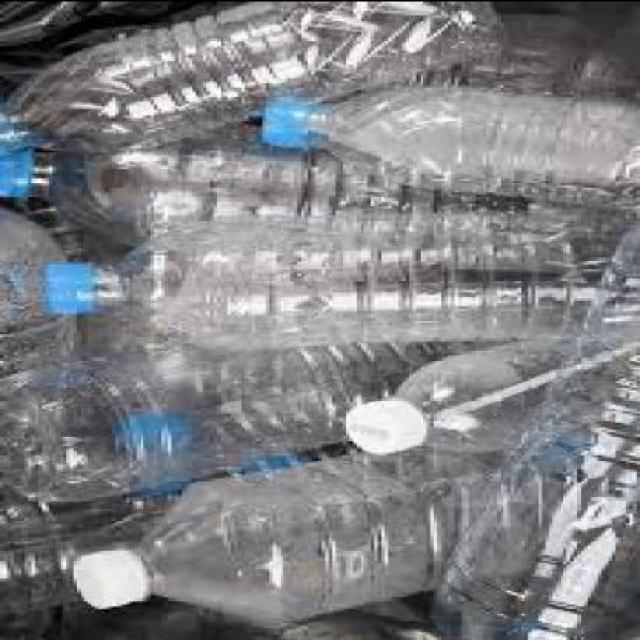PLASTIC: (0, 1, 638, 638), (420, 219, 637, 638), (63, 440, 539, 622), (0, 338, 491, 502), (39, 210, 636, 336), (1, 444, 367, 638), (0, 1, 494, 144), (0, 113, 529, 244), (255, 77, 637, 205), (339, 332, 567, 450), (335, 5, 637, 90), (525, 2, 637, 209), (0, 1, 195, 70), (84, 602, 438, 638), (70, 542, 150, 606), (343, 391, 423, 452), (116, 409, 196, 457), (262, 85, 312, 147), (0, 143, 32, 194), (0, 116, 28, 147)
